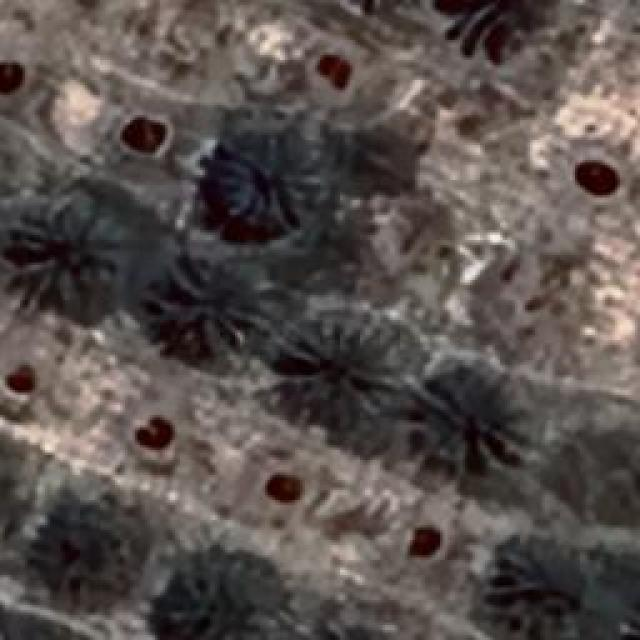PalmTree: (8, 210, 128, 300), (285, 325, 393, 425), (39, 494, 132, 604), (508, 540, 604, 640), (418, 384, 532, 468), (173, 557, 278, 640), (159, 252, 249, 348), (220, 140, 315, 228), (443, 0, 545, 65), (300, 612, 406, 640), (0, 616, 83, 640)
